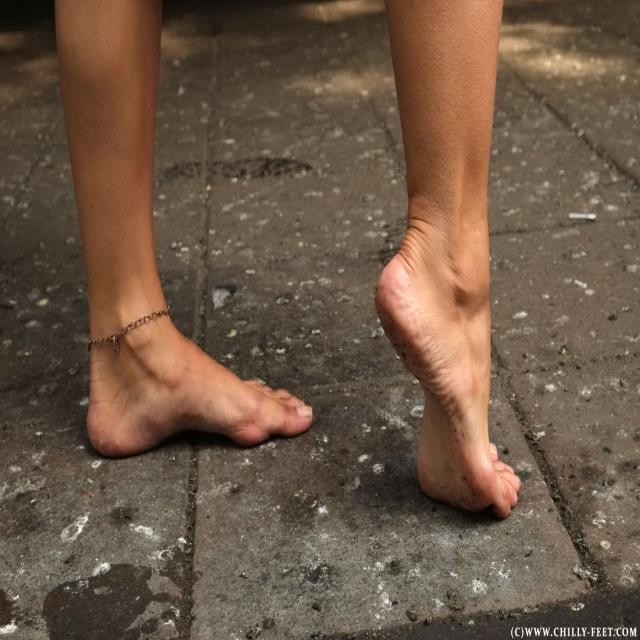Barefoots: (374, 231, 520, 517), (87, 327, 313, 458)
